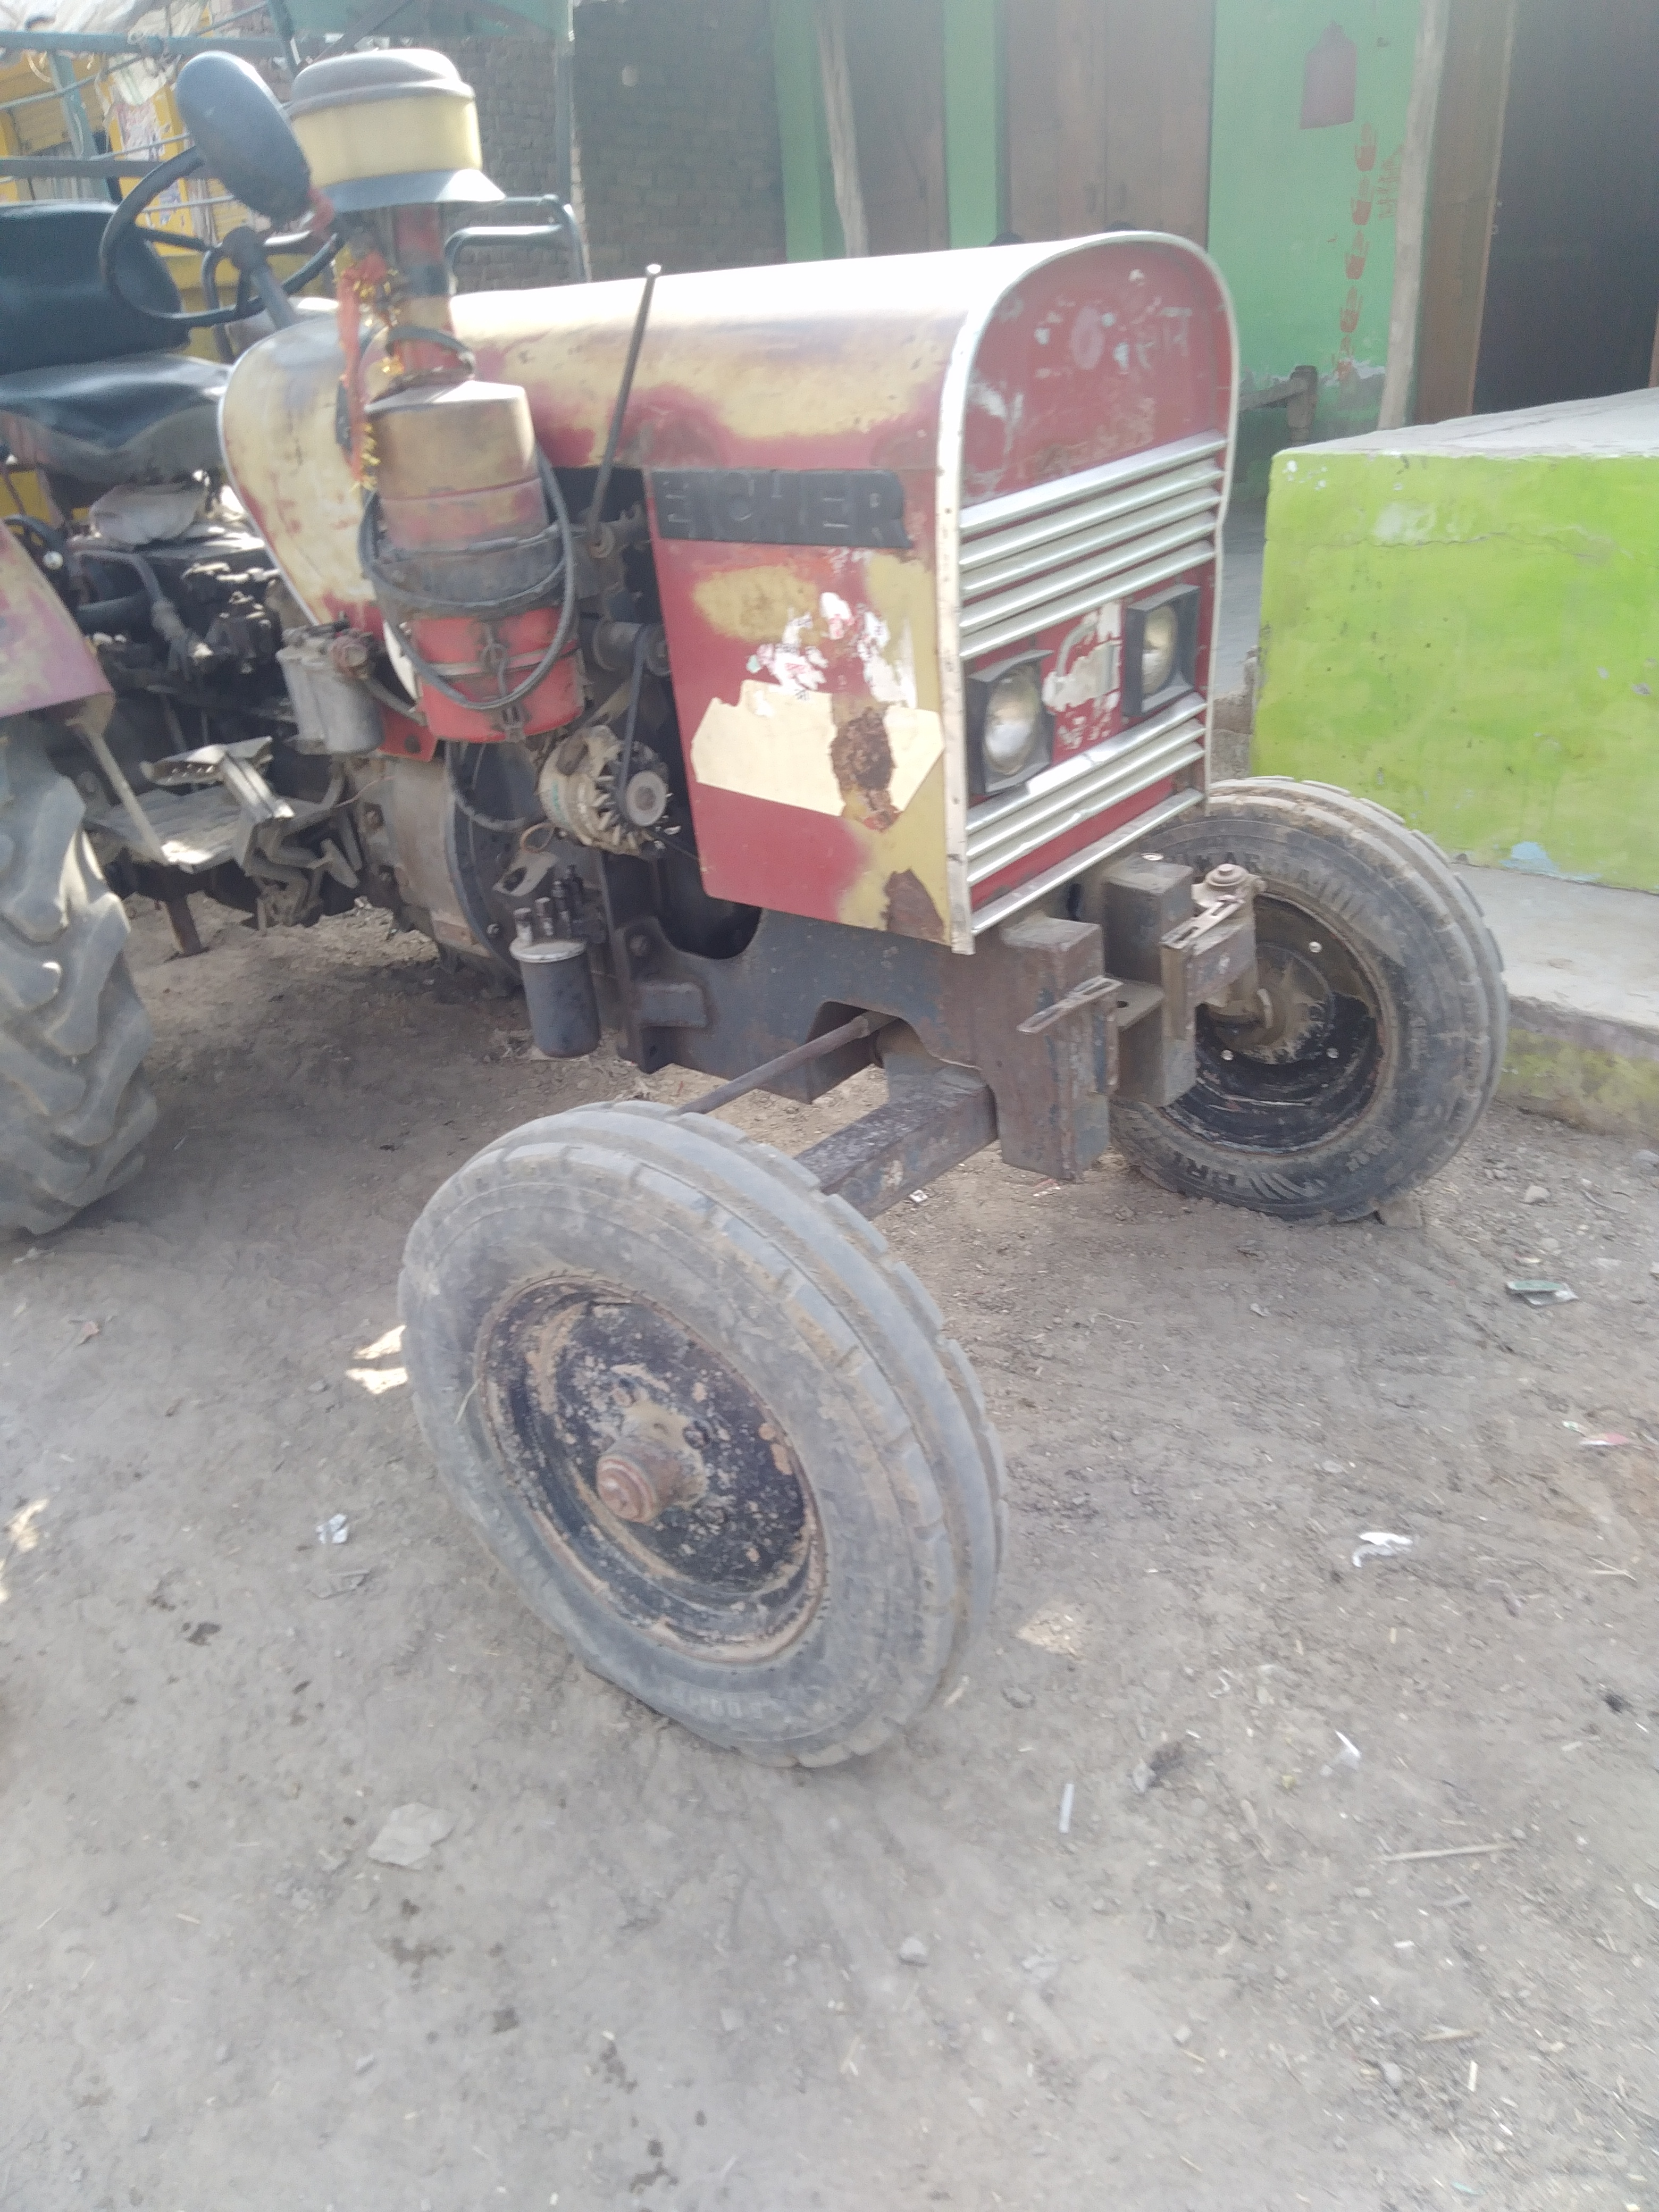tractor: (0, 0, 1514, 1778)
